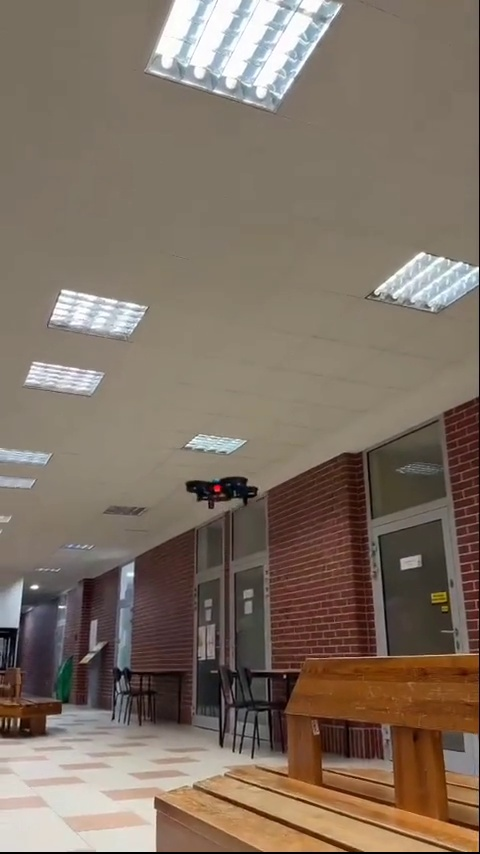drone: (185, 472, 259, 508)
